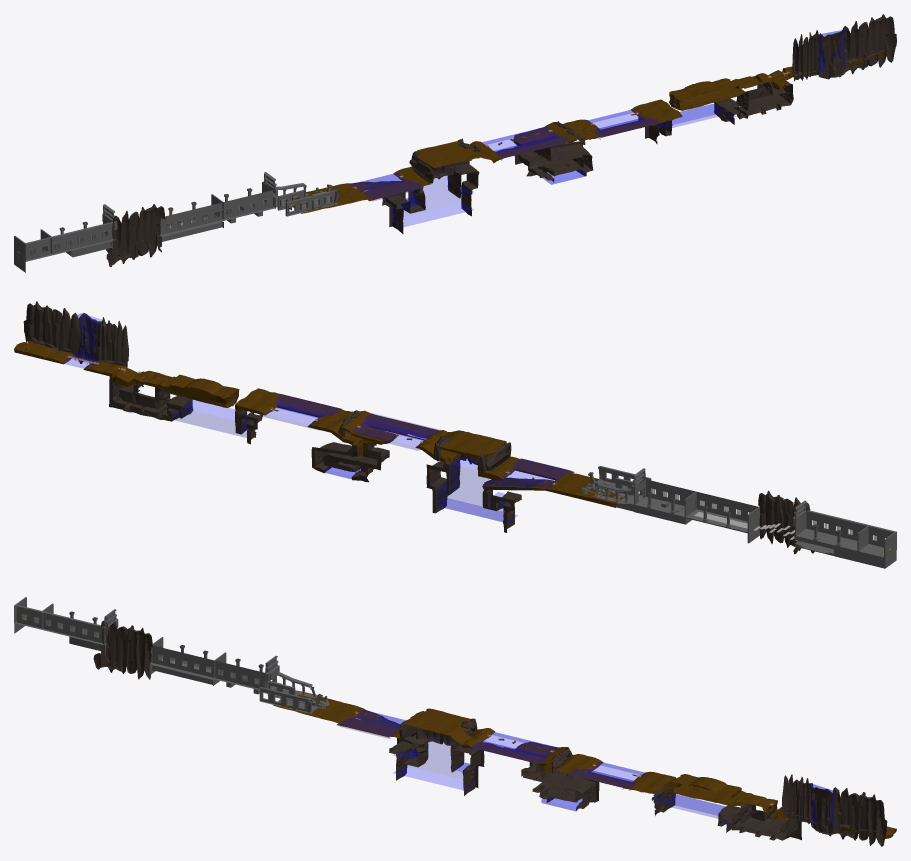
Rendered from LevelDesignComplete.fbx.
3 views of the same model, one above another, from view 1: azimuth 30°, elevation 25°; view 2: azimuth 150°, elevation 25°; view 3: azimuth 330°, elevation 25° (orthographic).
Visible parts, largest first — view 1: CliffFace1, Ground3, pasted__pCube30, CliffFace2, polySurface2251, Ground14, pCube3, Ground6, Ground2, Ground10, Ground8, Ground4 (+12 smaller); view 2: CliffFace1, pasted__pCube30, Ground3, Ground14, Ground2, polySurface2251, pCube3, Ground10, pasted__pCube19, CliffFace2, Ground6, pasted__pCube25 (+15 smaller); view 3: CliffFace1, Ground3, Ground14, CliffFace2, pasted__pCube30, polySurface2251, Ground6, pCube3, Ground10, Ground2, Ground4, Ground11 (+13 smaller).
Part boxes in pixels (x1,y1,x2,y2): CliffFace1: (792, 14, 896, 81); Ground3: (669, 73, 787, 111); pasted__pCube30: (351, 166, 473, 227); CliffFace2: (106, 204, 165, 266); polySurface2251: (159, 182, 276, 241); Ground14: (285, 181, 425, 233); pCube3: (14, 214, 115, 262); Ground6: (544, 119, 602, 176); Ground2: (714, 66, 823, 124); Ground10: (447, 141, 503, 216); Ground8: (514, 148, 583, 182); Ground4: (631, 99, 682, 144); CliffFace1: (23, 301, 128, 367); pasted__pCube30: (437, 457, 557, 522); Ground3: (119, 370, 239, 408); Ground14: (482, 473, 625, 532); Ground2: (83, 360, 193, 421); polySurface2251: (634, 479, 759, 532); pCube3: (795, 510, 896, 557); Ground10: (415, 430, 460, 513); pasted__pCube19: (794, 528, 896, 568); CliffFace2: (758, 490, 814, 553); Ground6: (307, 409, 364, 473); pasted__pCube25: (173, 400, 256, 437); CliffFace1: (782, 774, 887, 846); Ground3: (671, 774, 785, 835); Ground14: (273, 690, 428, 780); CliffFace2: (93, 620, 152, 679); pasted__pCube30: (353, 710, 475, 790); polySurface2251: (151, 637, 276, 688); Ground6: (540, 754, 603, 811); pCube3: (14, 597, 105, 644); Ground10: (450, 728, 495, 795); Ground2: (717, 805, 815, 840); Ground4: (622, 771, 675, 815); Ground11: (404, 709, 471, 736).
Bounding box in the file's own units: 887 × 102 × 43.88.
